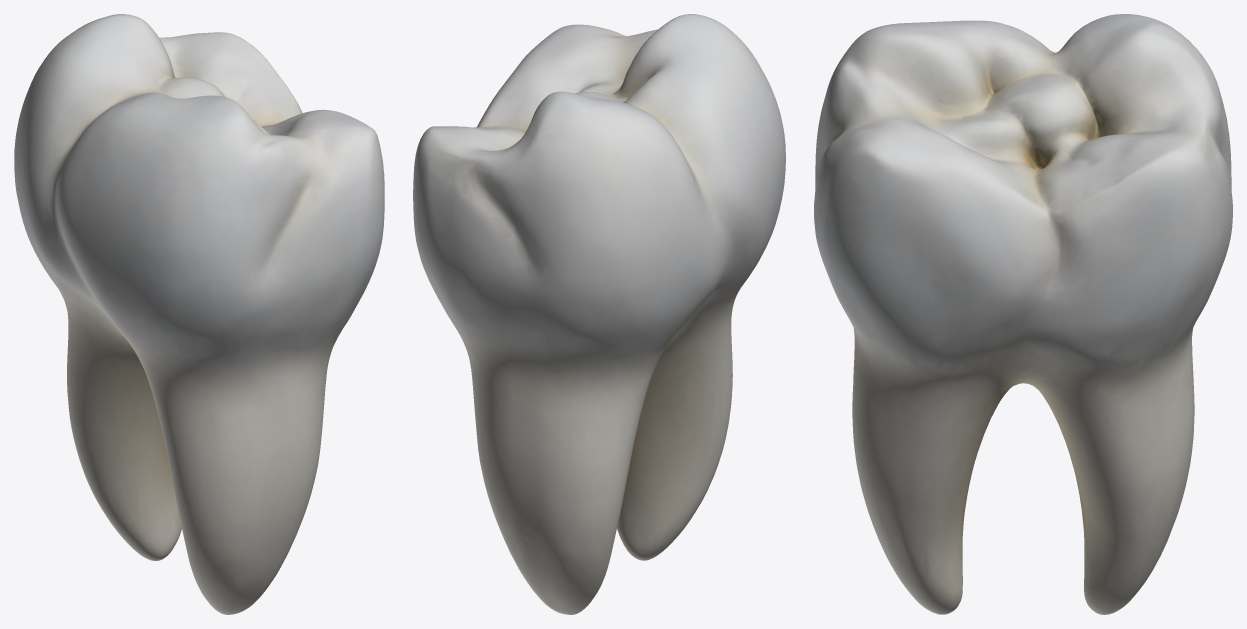
File: molar.glb
3 renders of one model, left to right at view 1: azimuth 30°, elevation 25°; view 2: azimuth 150°, elevation 25°; view 3: azimuth 270°, elevation 25°, orthographic. The views are drawn at different scales.
Visible parts, largest first — view 1: tripo_node_9b13c021-f739-4d6c-ae0e-a2c83965b496; view 2: tripo_node_9b13c021-f739-4d6c-ae0e-a2c83965b496; view 3: tripo_node_9b13c021-f739-4d6c-ae0e-a2c83965b496.
Boxes of the visible parts, x1=… form: tripo_node_9b13c021-f739-4d6c-ae0e-a2c83965b496: x1=14, y1=14, x2=384, y2=614; tripo_node_9b13c021-f739-4d6c-ae0e-a2c83965b496: x1=413, y1=14, x2=785, y2=614; tripo_node_9b13c021-f739-4d6c-ae0e-a2c83965b496: x1=814, y1=14, x2=1232, y2=614.
Size of the model in its own units: 0.542 by 0.9999 by 0.6588.
Materials: 1 (1 with a texture image).
